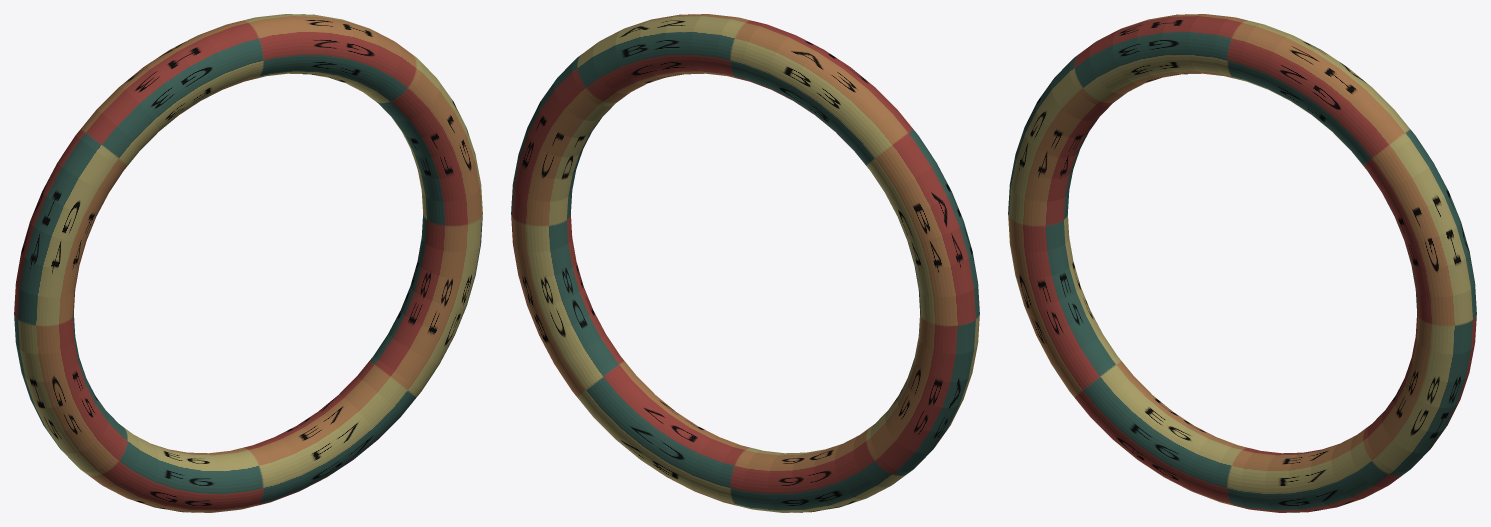
Rendered from texture_torus_R15_r2.glb.
3 views of the same model, side by side, from view 1: azimuth 30°, elevation 25°; view 2: azimuth 150°, elevation 25°; view 3: azimuth 330°, elevation 25° (orthographic).
Visible parts, largest first — view 1: world; view 2: world; view 3: world.
Boxes of the visible parts, x1,y1,x2,y2 form: world: (14, 14, 482, 512); world: (511, 14, 979, 512); world: (1008, 14, 1476, 512).
Bounding box in the file's own units: 22.53 × 22.49 × 2.53.
1 material, 1 textured.
